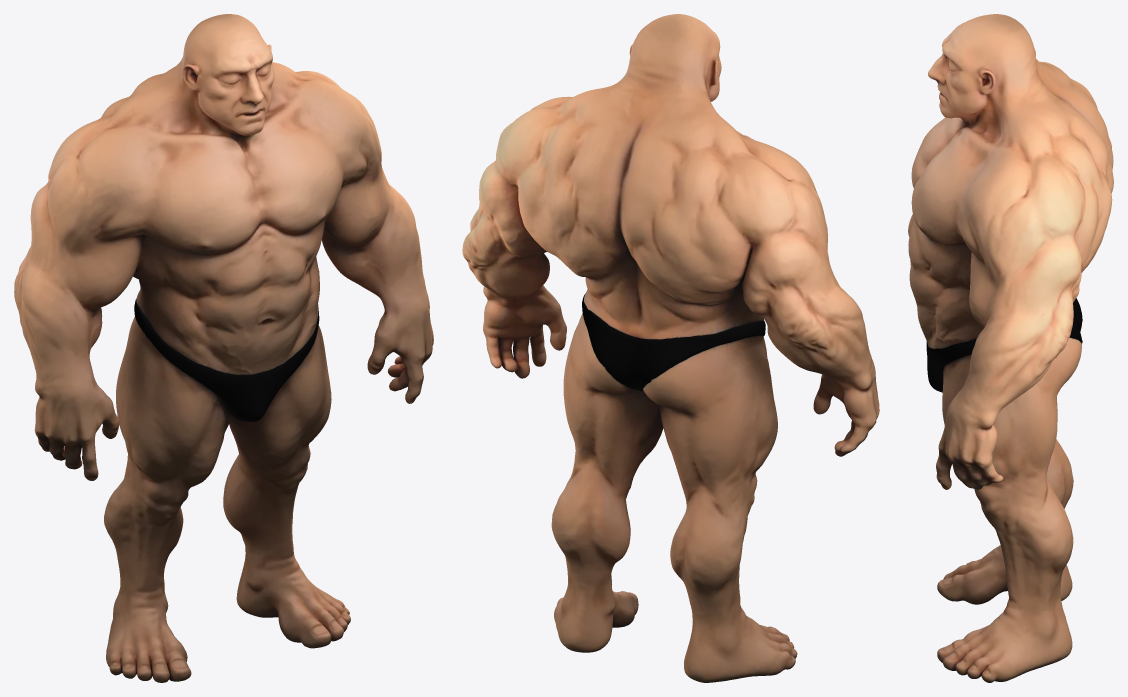
File: super_human-transformed.glb
3 renders of one model, left to right at view 1: azimuth 30°, elevation 25°; view 2: azimuth 150°, elevation 25°; view 3: azimuth 270°, elevation 25°, orthographic. The views are drawn at different scales.
Visible parts, largest first — view 1: Object_2, Object_4; view 2: Object_2, Object_4; view 3: Object_2, Object_4.
Part boxes in pixels (x1,y1,x2,y2): Object_2: (14,14,433,682); Object_4: (134,299,319,421); Object_2: (462,14,879,682); Object_4: (582,294,765,391); Object_2: (908,14,1113,682); Object_4: (926,298,1082,392).
Bounding box in the file's own units: 139 × 213 × 64.71.
2 materials, 1 textured.
